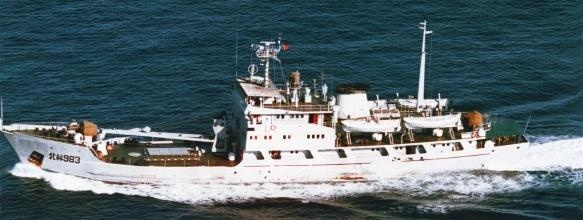warship: (2, 24, 534, 191)
